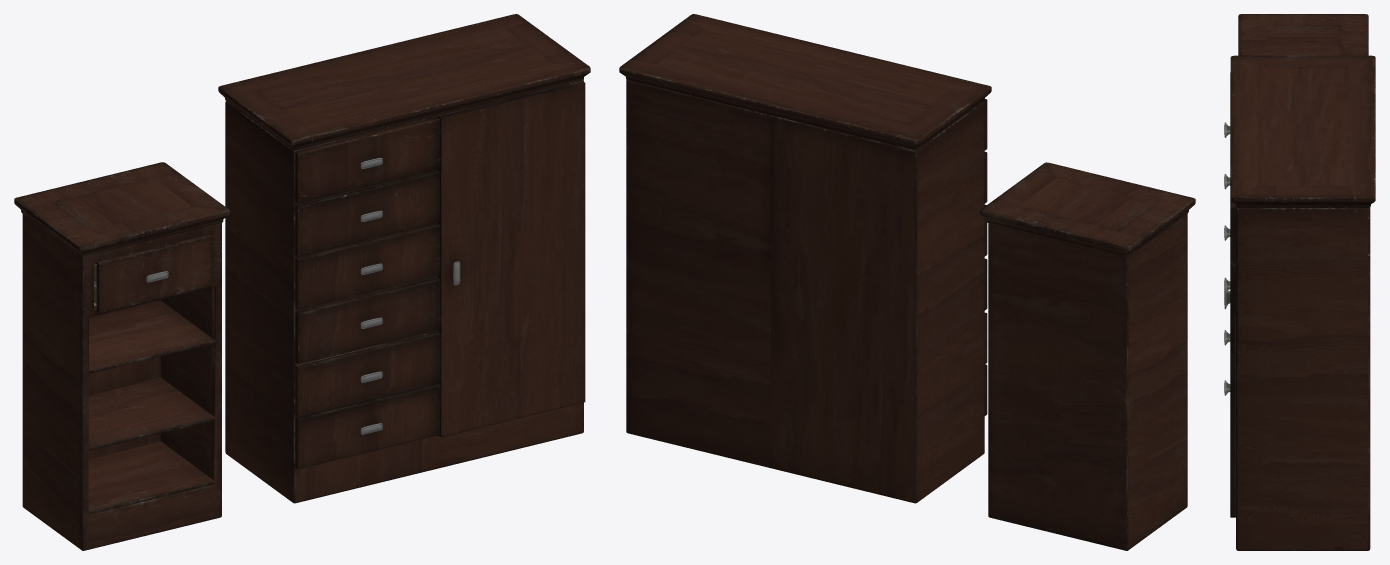
Rendered from wooden_dresser_drawer_pair.glb.
The picture shows the model from 3 angles, left to right: view 1: azimuth 30°, elevation 25°; view 2: azimuth 150°, elevation 25°; view 3: azimuth 270°, elevation 25°; orthographic projection. The views are drawn at different scales.
Visible parts, largest first — view 1: SM_WoodenDresser_2_Parts_LOD0, SM_WoodenDrawer_4_LOD0, SM_WoodenDresser_2_LOD0; view 2: SM_WoodenDresser_2_LOD0, SM_WoodenDrawer_4_LOD0, SM_WoodenDresser_2_Parts_LOD0; view 3: SM_WoodenDresser_2_LOD0, SM_WoodenDrawer_4_LOD0, SM_WoodenDresser_2_Parts_LOD0.
Boxes of the visible parts, x1,y1,x2,y2 form: SM_WoodenDresser_2_Parts_LOD0: (295,81,585,469); SM_WoodenDrawer_4_LOD0: (14,162,229,550); SM_WoodenDresser_2_LOD0: (218,14,590,503); SM_WoodenDresser_2_LOD0: (619,14,991,503); SM_WoodenDrawer_4_LOD0: (980,162,1195,550); SM_WoodenDresser_2_Parts_LOD0: (984,99,987,415); SM_WoodenDresser_2_LOD0: (1230,55,1375,550); SM_WoodenDrawer_4_LOD0: (1238,14,1368,55); SM_WoodenDresser_2_Parts_LOD0: (1224,72,1235,517).
Size of the model in its own units: 2.07 by 1.43 by 0.5506.
3 materials, 3 textured.
